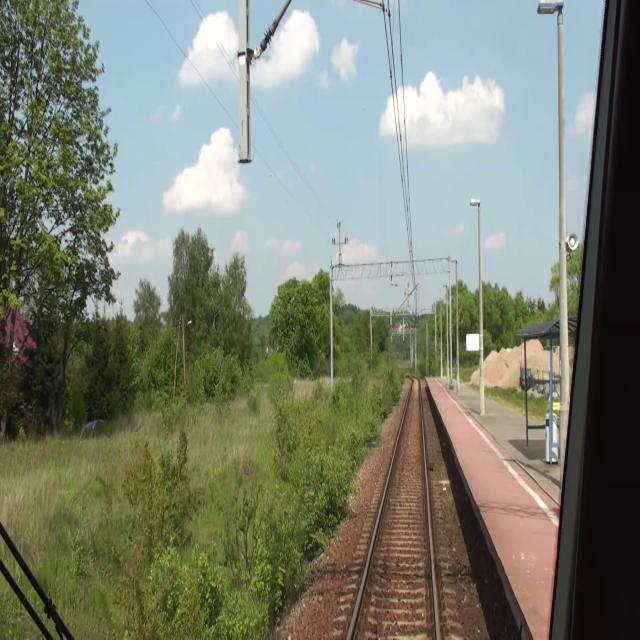rail-track: (352, 380, 435, 639)
